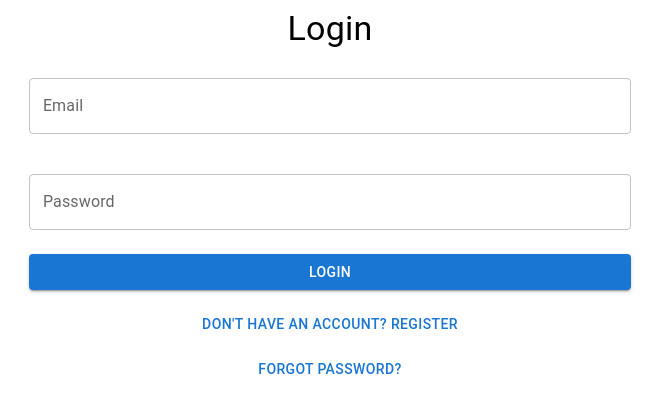
Scenario: AuthForm Component › should register a new user
Switch to registration mode
Click the button "Don't have an account? Register" at (330, 325), box [194,306,466,343]
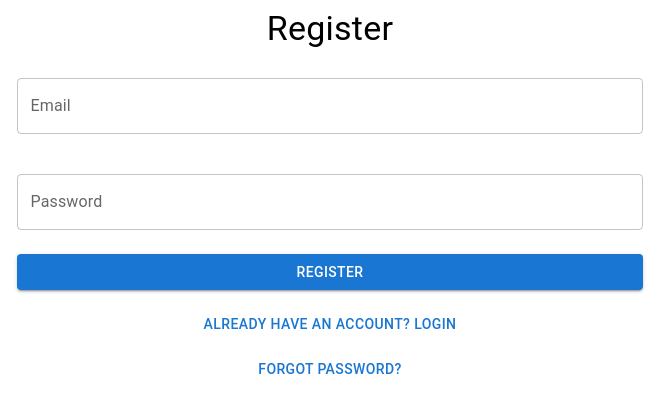
Fill in the registration form
Type "test@example.com" into the field labelled "Email" at (330, 106), box [16,78,644,134]
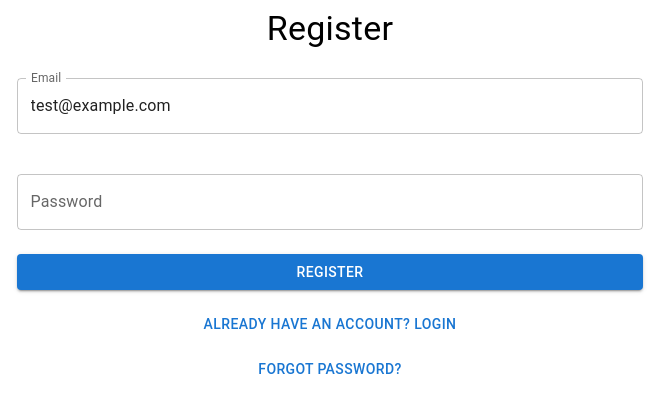
Type "password123" into the password field labelled "Password" at (330, 202), box [16,174,644,230]
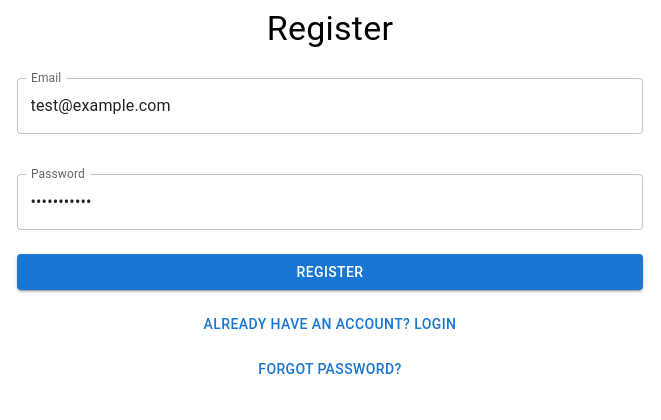
Submit the registration form
Click the button "Register" at (330, 272), box [16,254,644,290]
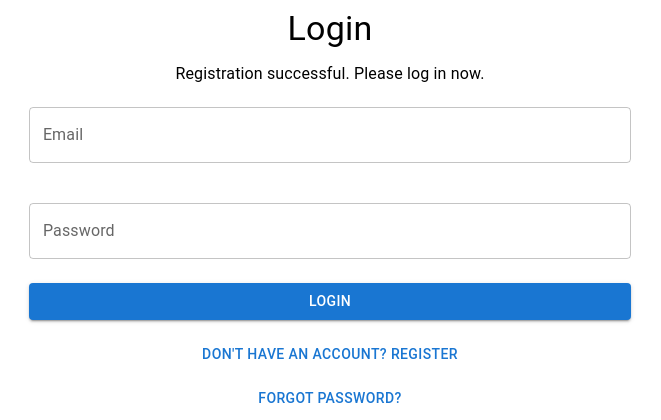
Result: the text "Registration successful. Please log in now." is shown at [175,62,484,86]
Result: the field labelled "Email" is empty at [29,108,631,164]
Result: the password field labelled "Password" is empty at [29,204,631,260]
